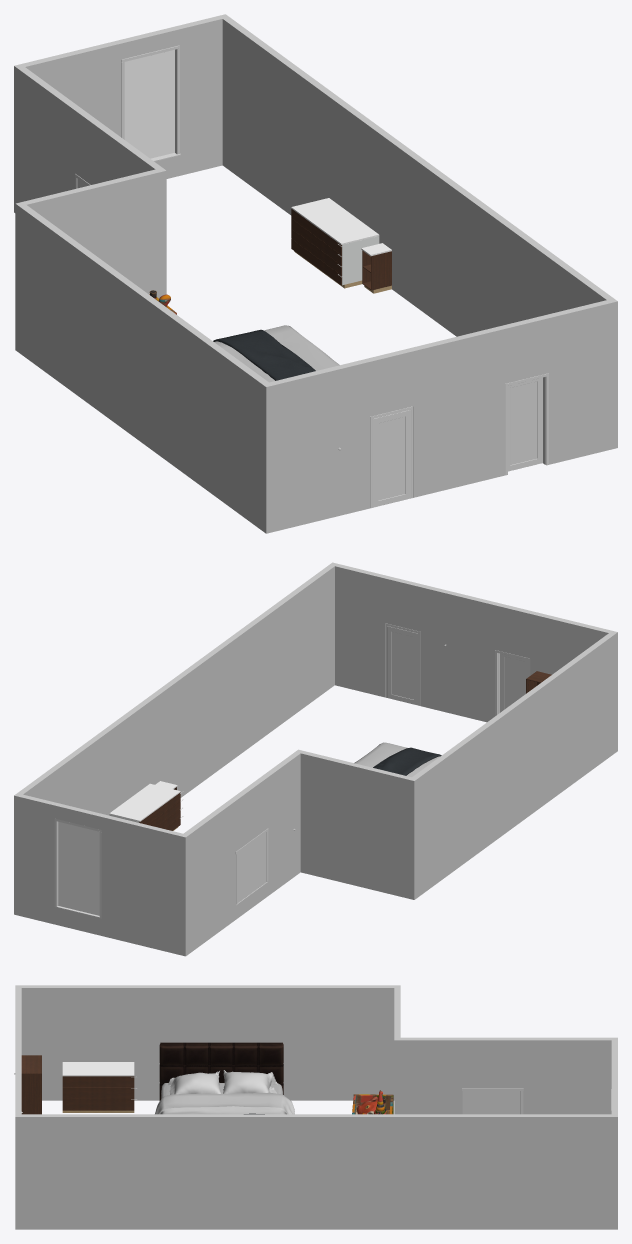
The model's file is BedRoom.glb.
3 renders of one model, top to bottom at view 1: azimuth 30°, elevation 25°; view 2: azimuth 150°, elevation 25°; view 3: azimuth 270°, elevation 25°, orthographic. The views are drawn at different scales.
Parts seen in each view (by area): view 1: Wall Mesh.010, Wall Mesh.002, Wall Mesh.001, Wall Mesh.012, Wall Mesh.008, Wall Mesh.007, Wall Mesh.005, Glass, Bed.003_Bed_0, Door Panel.005, Door Panel.002, Part.019 (+4 smaller); view 2: Wall Mesh.010, Wall Mesh.002, Wall Mesh.008, Wall Mesh.005, Wall Mesh.012, Wall Mesh.007, Wall Mesh.001, Glass, Door Panel.002, Bed.003_Bed_0, Door Panel, Part.019 (+3 smaller); view 3: Wall Mesh.010, Wall Mesh.002, Wall Mesh.007, Bed.003_Bed_0, Door Panel, Carcass.001, Part.010, Part.003, gusar_low_lambert1_0.003, Part.002, Part.004, Wall Mesh.008 (+3 smaller).
Part boxes in pixels (x1,y1,x2,y2): Wall Mesh.010: (222, 14, 617, 336); Wall Mesh.002: (15, 203, 268, 533); Wall Mesh.001: (266, 340, 448, 533); Wall Mesh.012: (444, 300, 617, 489); Wall Mesh.008: (14, 14, 225, 178); Wall Mesh.007: (14, 66, 165, 212); Wall Mesh.005: (16, 169, 166, 298); Glass: (124, 49, 174, 158); Bed.003_Bed_0: (213, 325, 339, 382); Door Panel.005: (373, 410, 410, 507); Door Panel.002: (508, 377, 542, 471); Part.019: (291, 198, 379, 244); Wall Mesh.010: (14, 562, 334, 815); Wall Mesh.002: (412, 632, 617, 899); Wall Mesh.008: (14, 794, 185, 956); Wall Mesh.005: (298, 749, 414, 899); Wall Mesh.012: (332, 562, 469, 717); Wall Mesh.007: (183, 750, 300, 955); Wall Mesh.001: (467, 596, 617, 722); Glass: (58, 821, 99, 915); Door Panel.002: (387, 626, 418, 705); Bed.003_Bed_0: (354, 742, 441, 777); Door Panel: (237, 832, 266, 903); Part.019: (109, 783, 180, 821); Wall Mesh.010: (15, 1114, 617, 1229); Wall Mesh.002: (16, 985, 399, 1100); Wall Mesh.007: (394, 1037, 617, 1114); Bed.003_Bed_0: (155, 1042, 294, 1114); Door Panel: (465, 1091, 520, 1114); Carcass.001: (21, 1055, 41, 1114); Part.010: (62, 1062, 134, 1076); Part.003: (62, 1087, 134, 1099); gusar_low_lambert1_0.003: (352, 1090, 393, 1114); Part.002: (62, 1076, 134, 1087); Part.004: (62, 1099, 134, 1110); Wall Mesh.008: (611, 1038, 617, 1116).
Bounding box in the file's own units: 10.04 × 4.05 × 19.45.
12 materials, 4 textured.
